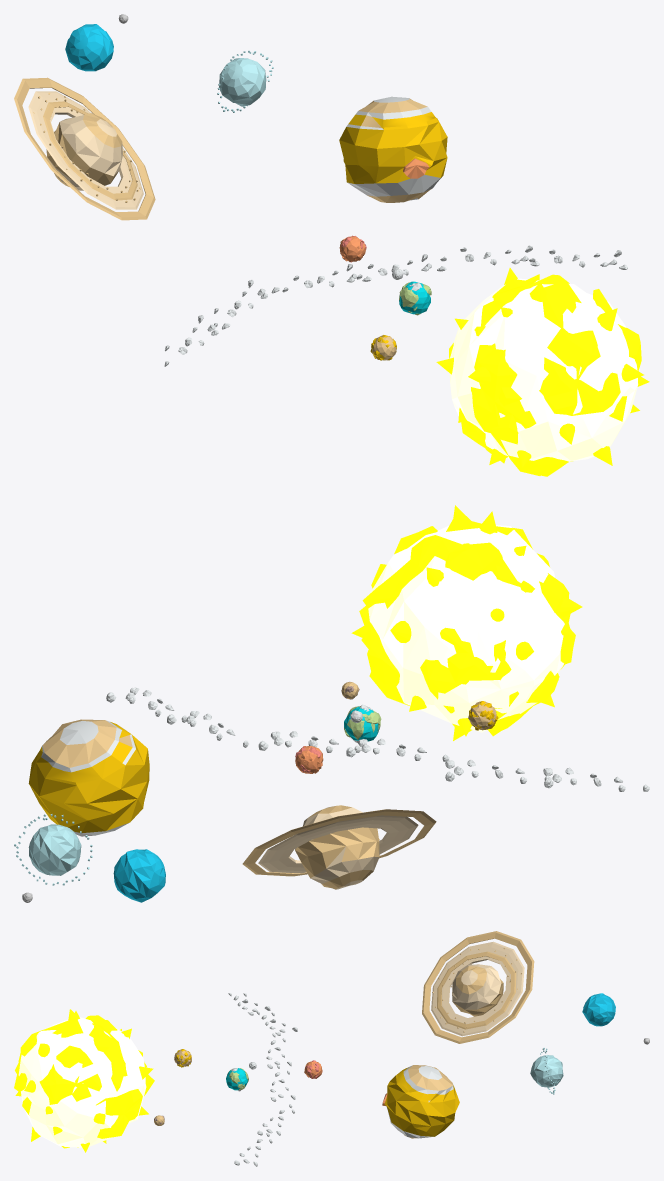
Rendered from Space.glb.
3 views of the same model, one above another, from view 1: azimuth 30°, elevation 25°; view 2: azimuth 150°, elevation 25°; view 3: azimuth 270°, elevation 25° (orthographic). The views are drawn at different scales.
Visible parts, largest first — view 1: model; view 2: model; view 3: model.
Boxes of the visible parts, x1,y1,x2,y2 form: model: [14, 14, 649, 476]; model: [14, 505, 649, 902]; model: [14, 931, 649, 1166].
Bounding box in the file's own units: 51.86 × 20.96 × 87.52.
